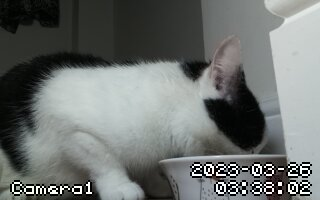bad: (11, 39, 270, 200)
